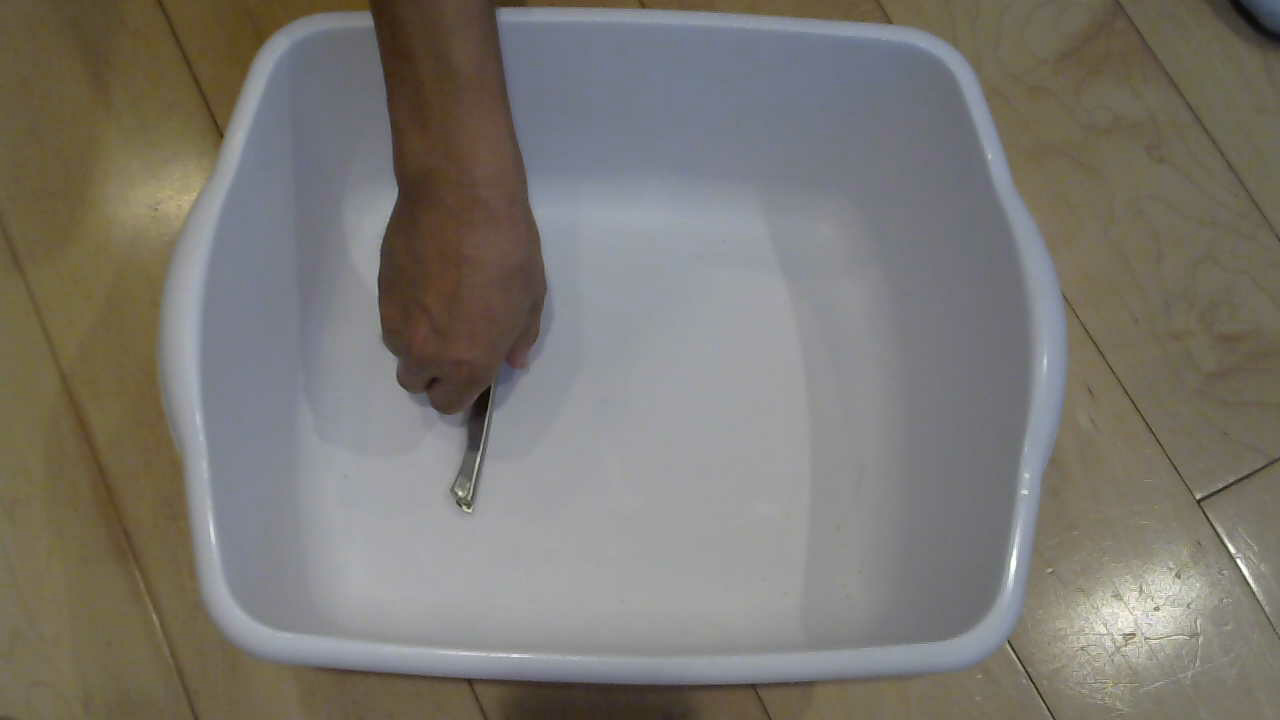knife: (413, 195, 532, 527)
